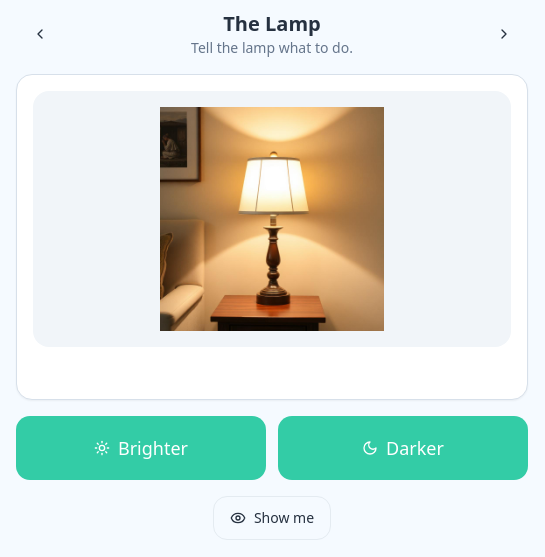
Test: FunctionalScenePlayer — tap playthrough › tapping a command models the word via TTS, changes the photo, announces the result
Click the button "brighter". click: (141, 448)
box: x1=16 y1=416 x2=266 y2=480
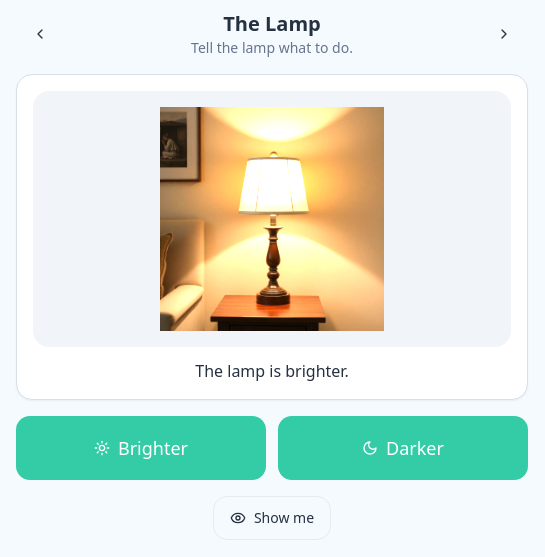
Result: the message reads "The lamp is brighter." at x1=195 y1=360 x2=349 y2=382
